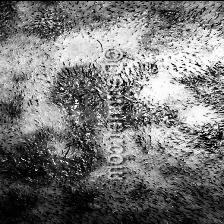Potentially Malignant Skin Tumors: (1, 118, 96, 184), (156, 96, 224, 144)
